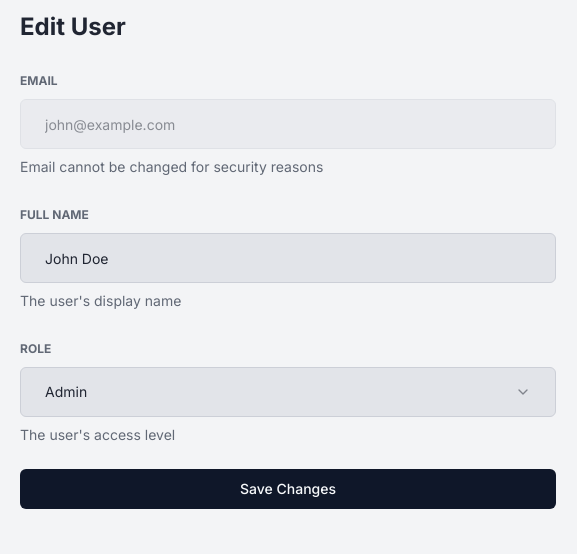
Test case: EditUserForm › validates that name is required
The image size is (577, 554).
Clear the field labelled "Full Name" at [288, 258], box [20, 233, 556, 283]
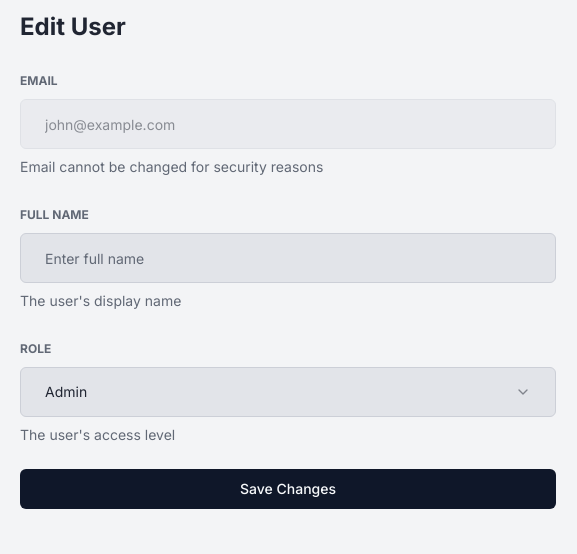
Click the button "Save Changes".
click(288, 489)  # box [20, 469, 556, 509]
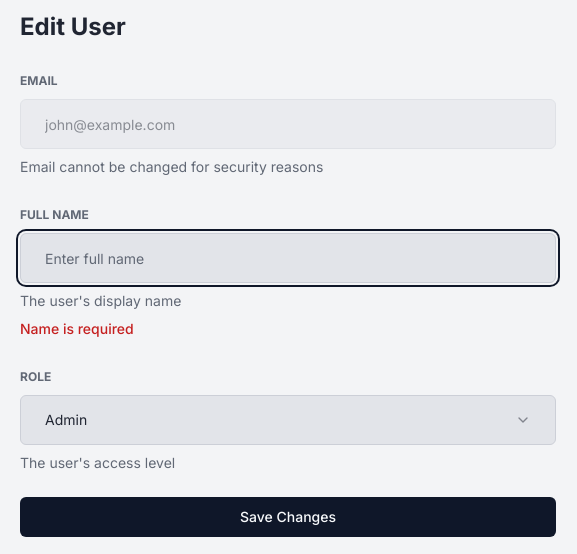
Now the text "Name is required" is shown, box [20, 320, 134, 337]
